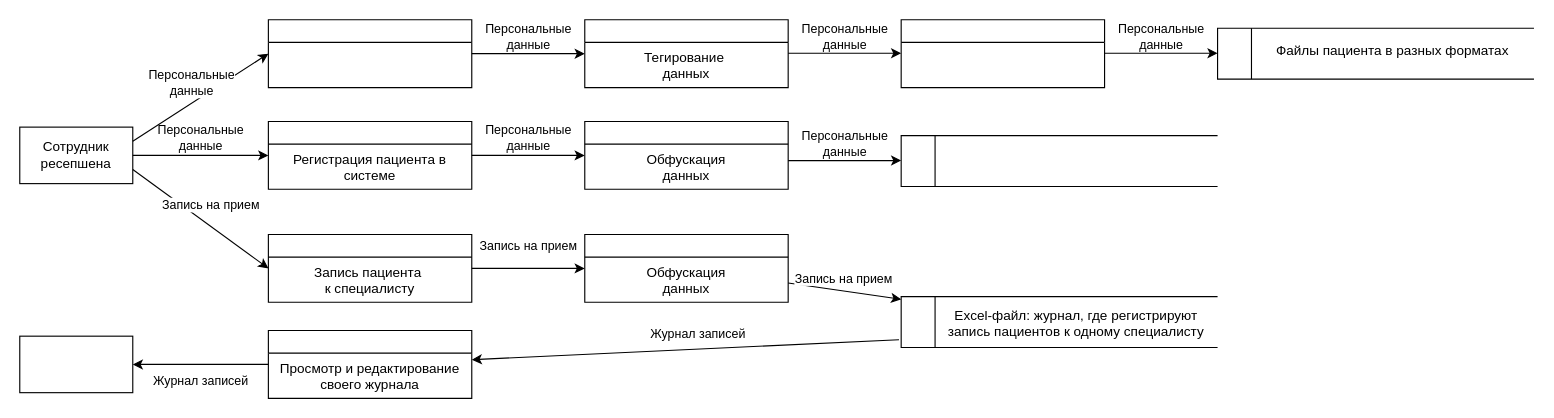
Image size: 1554x418. Some labels were removed from this diagram. Each missing label, with the centre of its shape:
"Excel-файл со списком пациентов" goes at point (1059, 160).
"Регистрация файла с данными пациента" goes at point (369, 53).
"Специалист-медик" goes at point (76, 364).
"Шифрование данных" goes at point (1002, 53).
